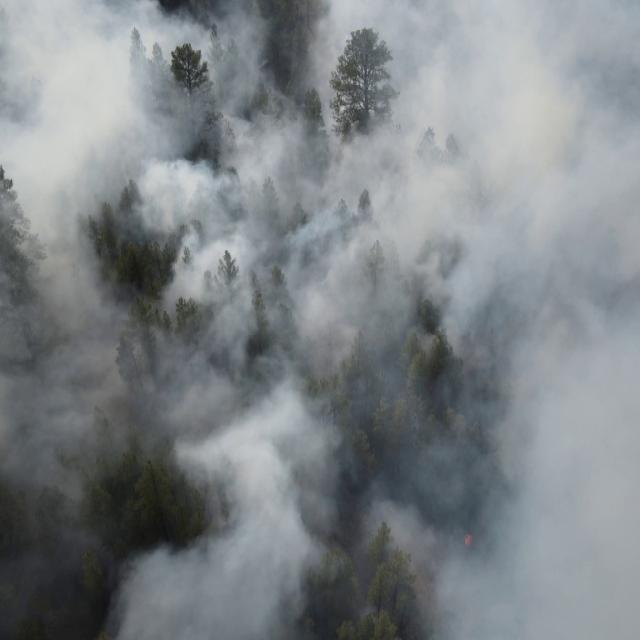fire: (462, 532, 475, 546)
smoke: (112, 0, 640, 462), (0, 0, 113, 640), (113, 541, 640, 640), (180, 463, 640, 541)
